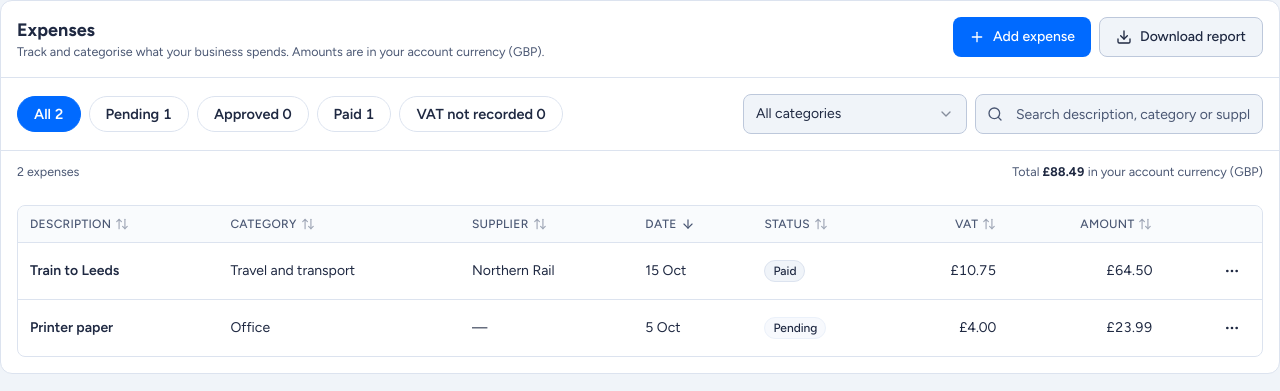
Test: ExpensesTab › shows a running total of the listed rows, labelled with the account currency
expect the text "£88.49" is shown: met, box [1042,164,1085,179]
expect the text "in your account currency (GBP)" is shown: met, box [17,44,544,59]
Step 1. Click the button "Pending 1" → {"x": 139, "y": 114}, box [89,96,189,132]
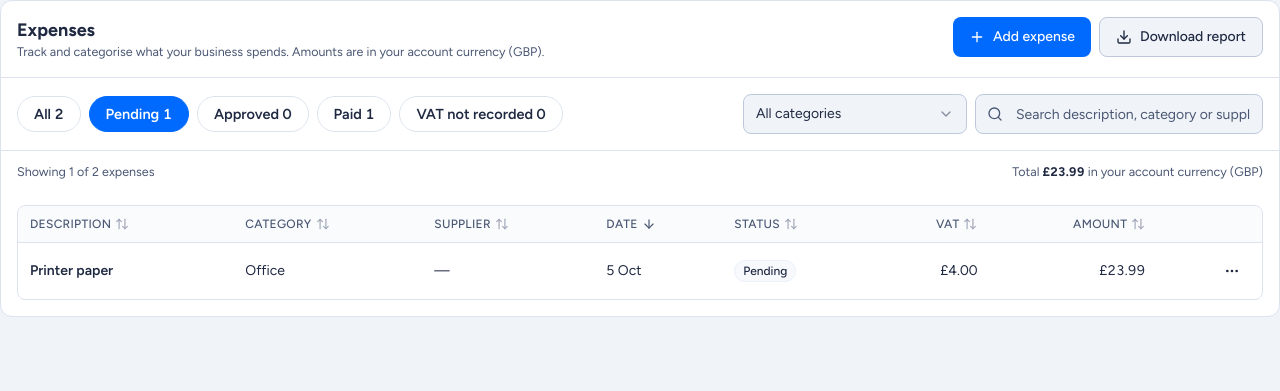
expect the text "£23.99" next to "Total" is shown: met, box [1042,164,1085,179]
expect the text "Showing 1 of 2 expenses" is shown: met, box [17,163,154,181]
